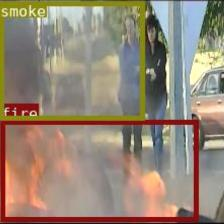fire: (0, 119, 197, 221)
smoke: (0, 1, 143, 119)
